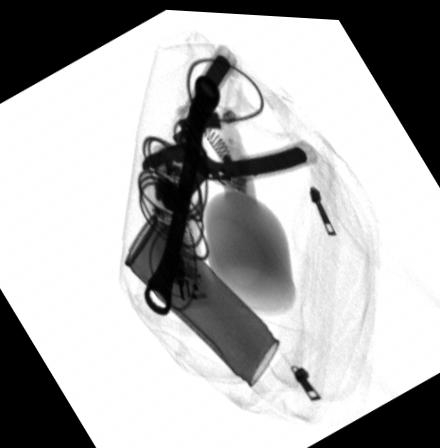Pliers: (141, 37, 319, 210)
Wrench: (141, 71, 223, 314)
